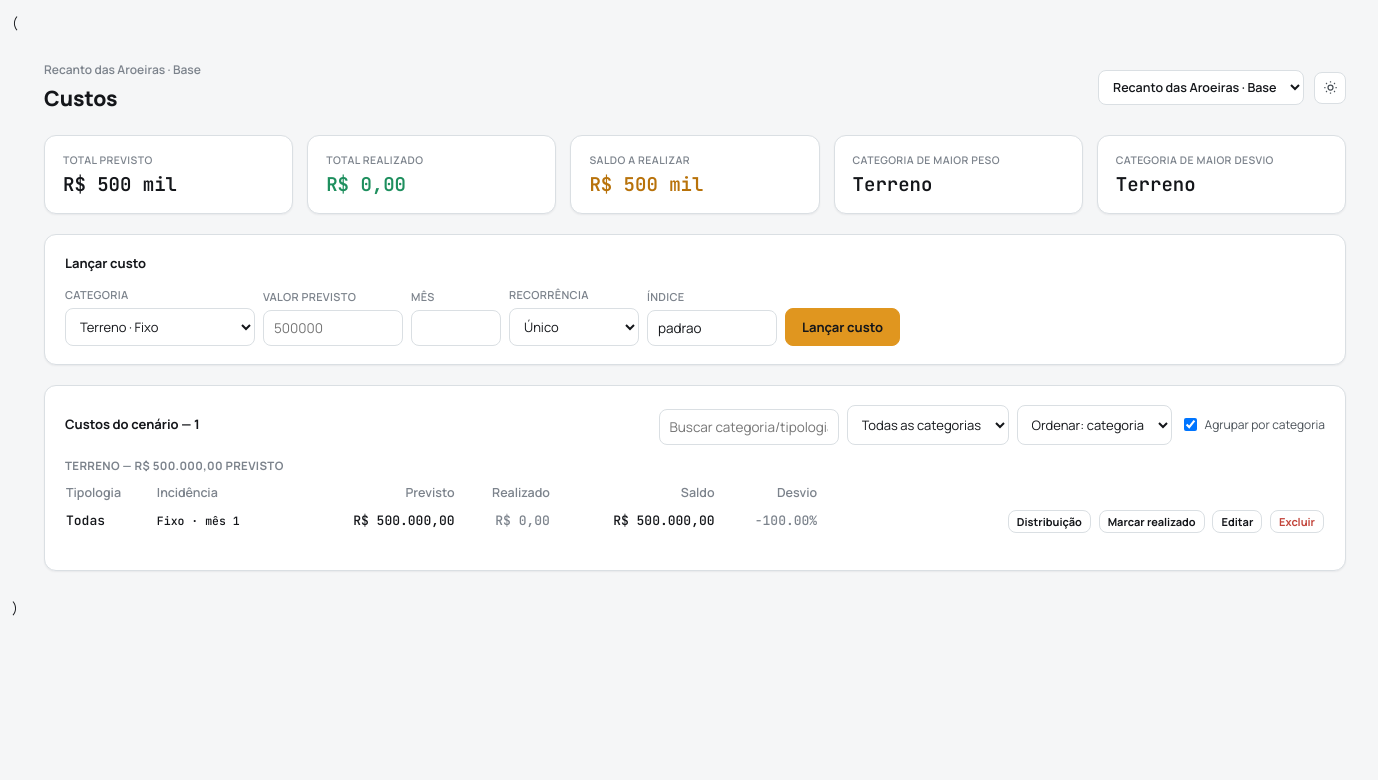
CustosPage › trocar de cenário não deixa custo do cenário anterior visível, e resincroniza o formulário de lançar custo
Select "Torres Alto Padrão · Base" in the dropdown in the row of "Recanto das Aroeiras · Base": {"x": 1201, "y": 88} [1098,70,1304,105]
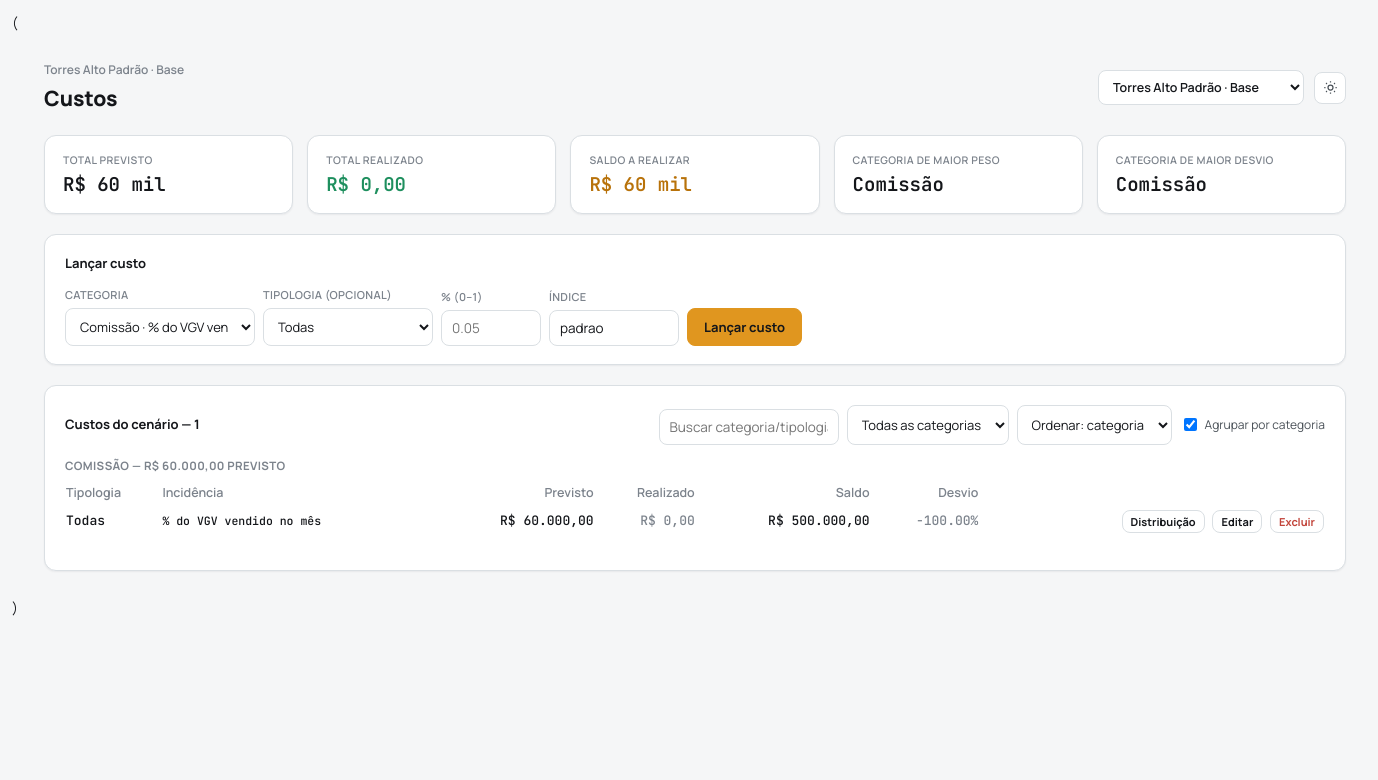
Now the text "Terreno" is not shown
Now the text "Comissão" below "Categoria de maior peso" is shown, box [853,172,944,197]
Now the text "Terreno" is gone
